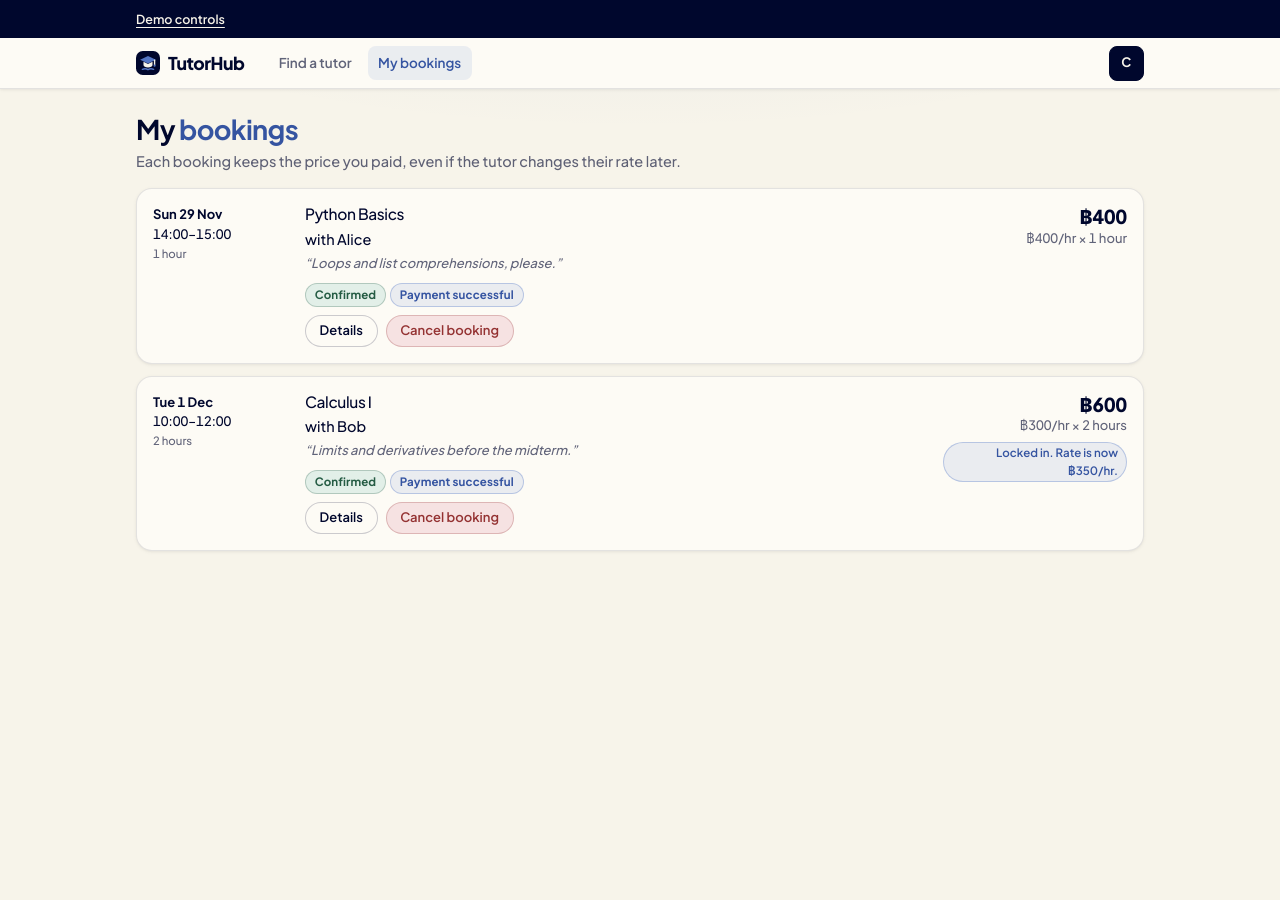
Test case: booking detail modal (FR-11, GET /api/bookings/:id) › opens booking details from student bookings list
Click the button with aria-label "View booking #". click: (341,330)
box: [305, 314, 378, 346]
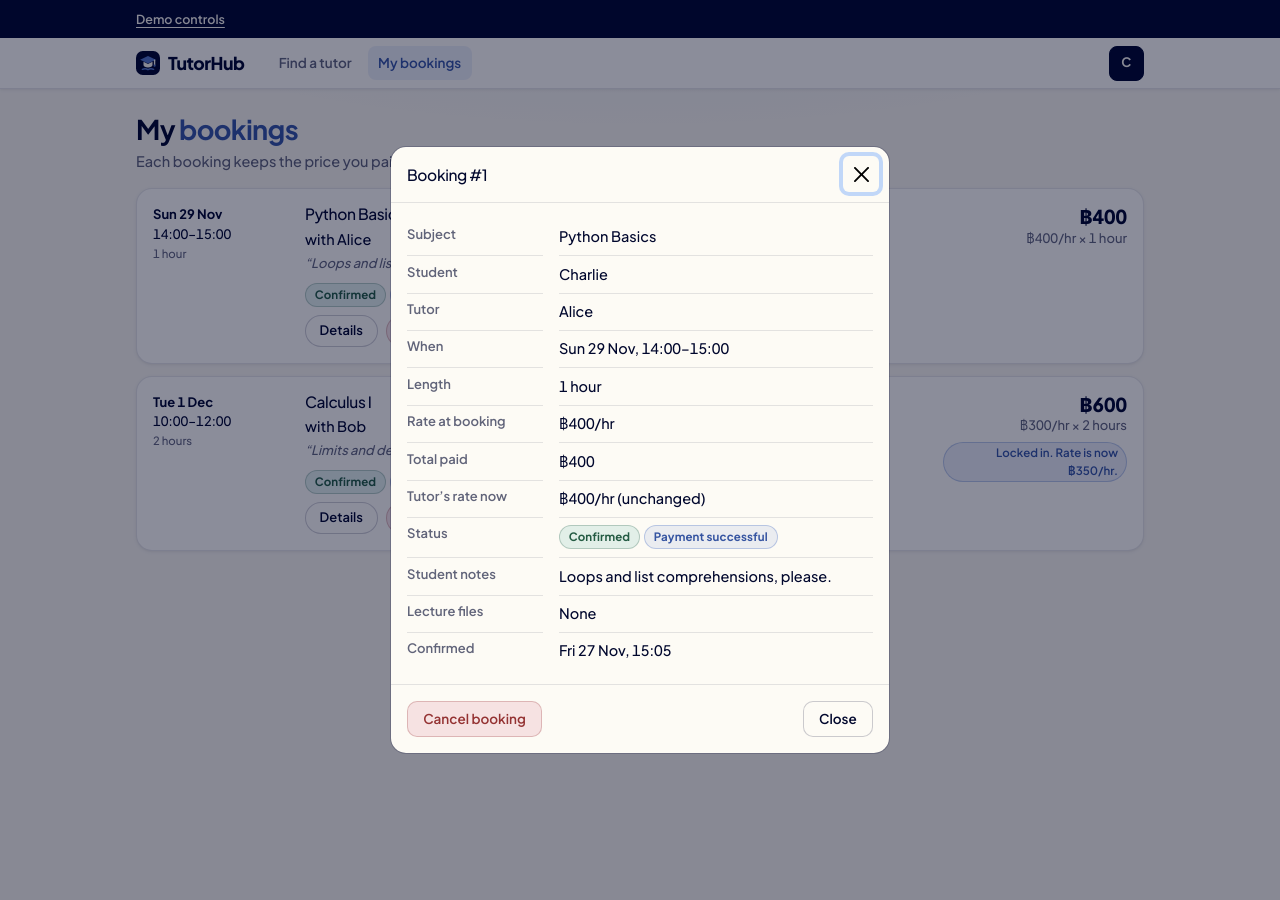
Expected: the heading "Booking #1" is shown, [407, 163, 487, 186]
Expected: the text "Loops and list comprehensions, please." is shown, [559, 557, 873, 593]
